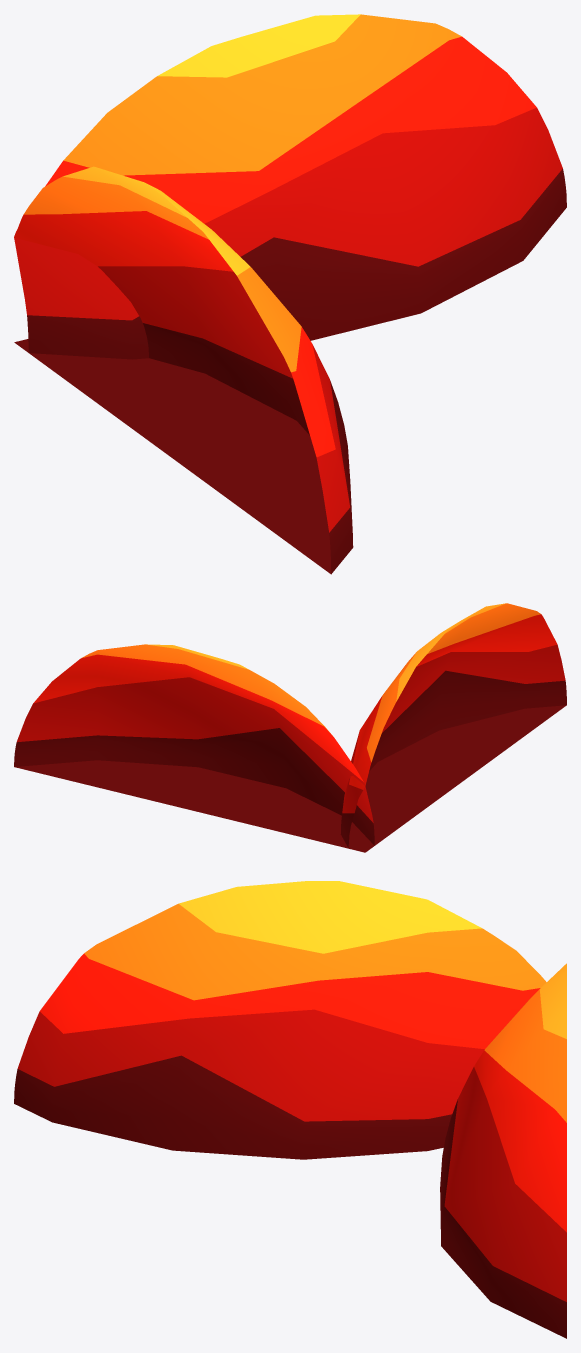
Rendered from shot_charge_b242.glb.
3 renders of one model, top to bottom at view 1: azimuth 30°, elevation 25°; view 2: azimuth 150°, elevation 25°; view 3: azimuth 270°, elevation 25°, orthographic. The views are drawn at different scales.
Parts seen in each view (by area): view 1: charge_twin2_a_fire_shot_charge_b242, charge_twin2_b_fire_shot_charge_b242; view 2: charge_twin2_a_fire_shot_charge_b242, charge_twin2_b_fire_shot_charge_b242; view 3: charge_twin2_b_fire_shot_charge_b242, charge_twin2_a_fire_shot_charge_b242.
Part boxes in pixels (x1,y1,x2,y2): charge_twin2_a_fire_shot_charge_b242: [14, 14, 566, 359]; charge_twin2_b_fire_shot_charge_b242: [14, 166, 353, 574]; charge_twin2_a_fire_shot_charge_b242: [14, 644, 374, 852]; charge_twin2_b_fire_shot_charge_b242: [340, 603, 566, 851]; charge_twin2_b_fire_shot_charge_b242: [14, 881, 546, 1159]; charge_twin2_a_fire_shot_charge_b242: [440, 963, 566, 1338].
Bounding box in the file's own units: 8.4 × 3.71 × 8.35.
